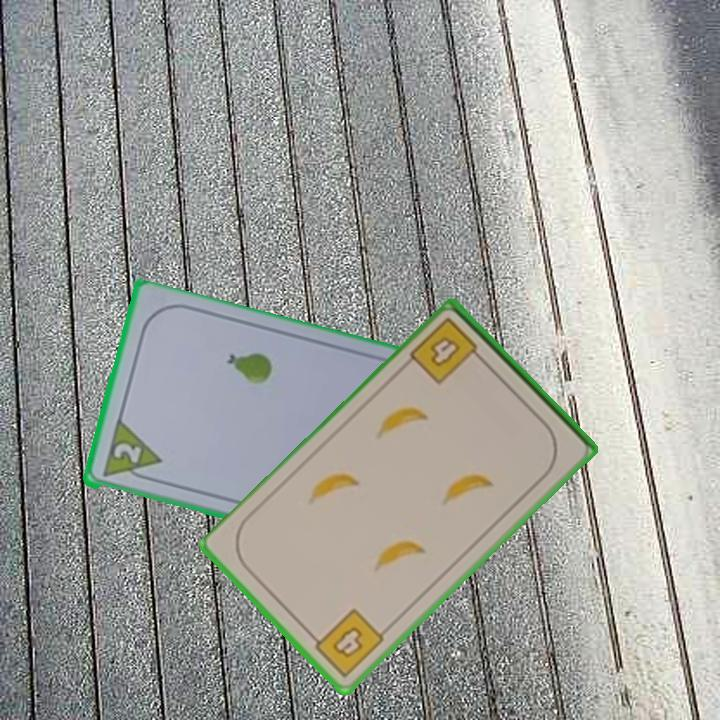2p: (109, 439, 144, 467)
4b: (306, 605, 388, 681), (406, 314, 489, 388)
